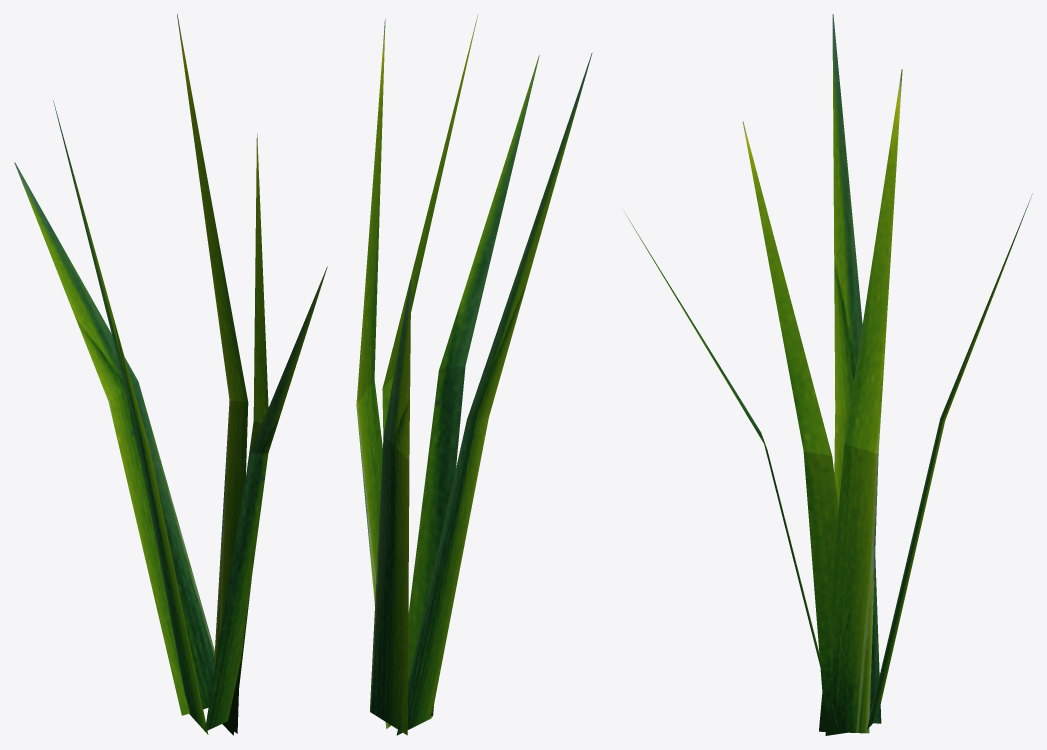
Rendered from grass1.fbx.
The picture shows the model from 3 angles, left to right: view 1: azimuth 30°, elevation 25°; view 2: azimuth 150°, elevation 25°; view 3: azimuth 270°, elevation 25°; orthographic projection. The views are drawn at different scales.
Parts seen in each view (by area): view 1: Plane.000; view 2: Plane.000; view 3: Plane.000.
Boxes of the visible parts, x1,y1,x2,y2 form: Plane.000: [14, 14, 327, 735]; Plane.000: [356, 15, 592, 735]; Plane.000: [624, 14, 1032, 735].
Bounding box in the file's own units: 113 × 373 × 211.
Materials: 1 (1 with a texture image).
